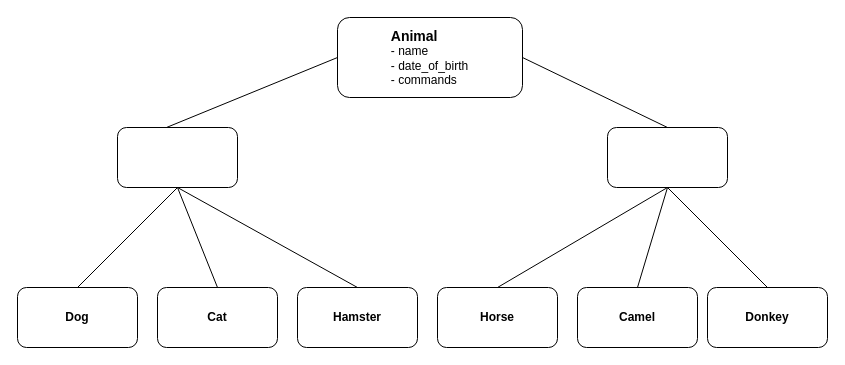
Image size: 845x365. Some labels were removed from this diagram. Each missing label, with the box of its shape:
PackAnimals: (606, 126, 728, 188)
Pets: (116, 126, 238, 188)
